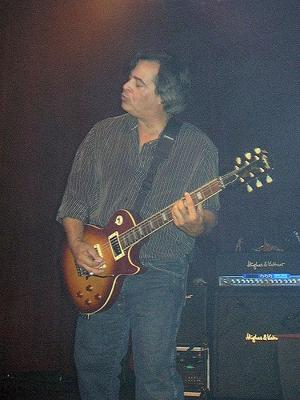person: (57, 54, 222, 398)
